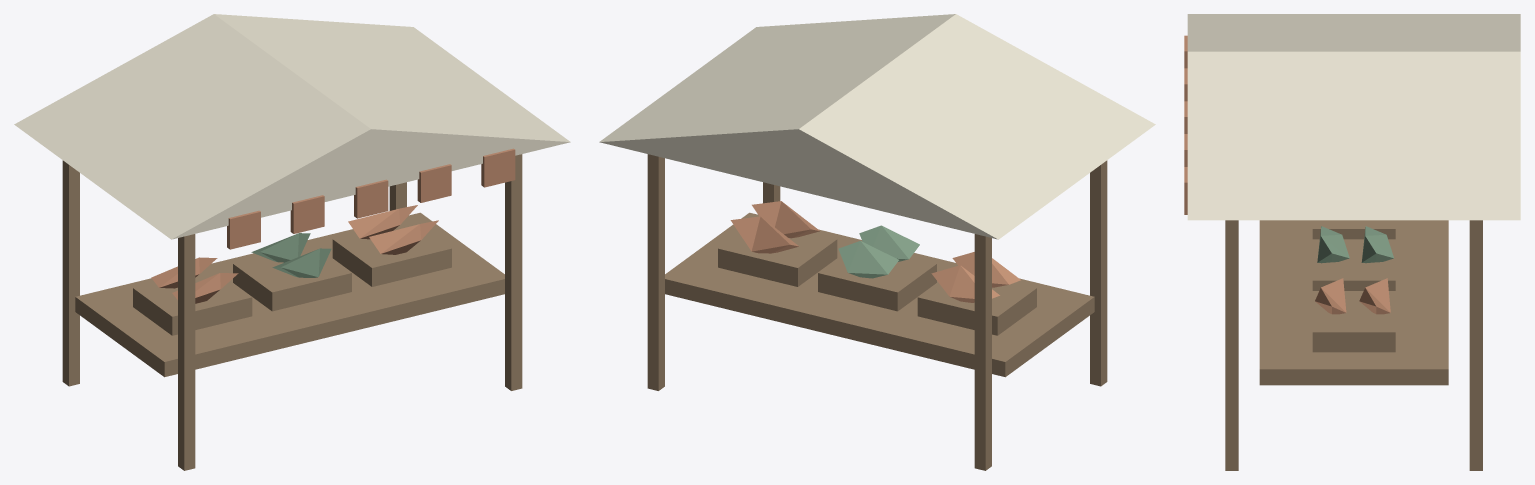
3 views of the same model, side by side, from view 1: azimuth 30°, elevation 25°; view 2: azimuth 150°, elevation 25°; view 3: azimuth 270°, elevation 25° (orthographic). The views are drawn at different scales.
Size of the model in its own units: 4.4 by 3.3 by 3.03.
